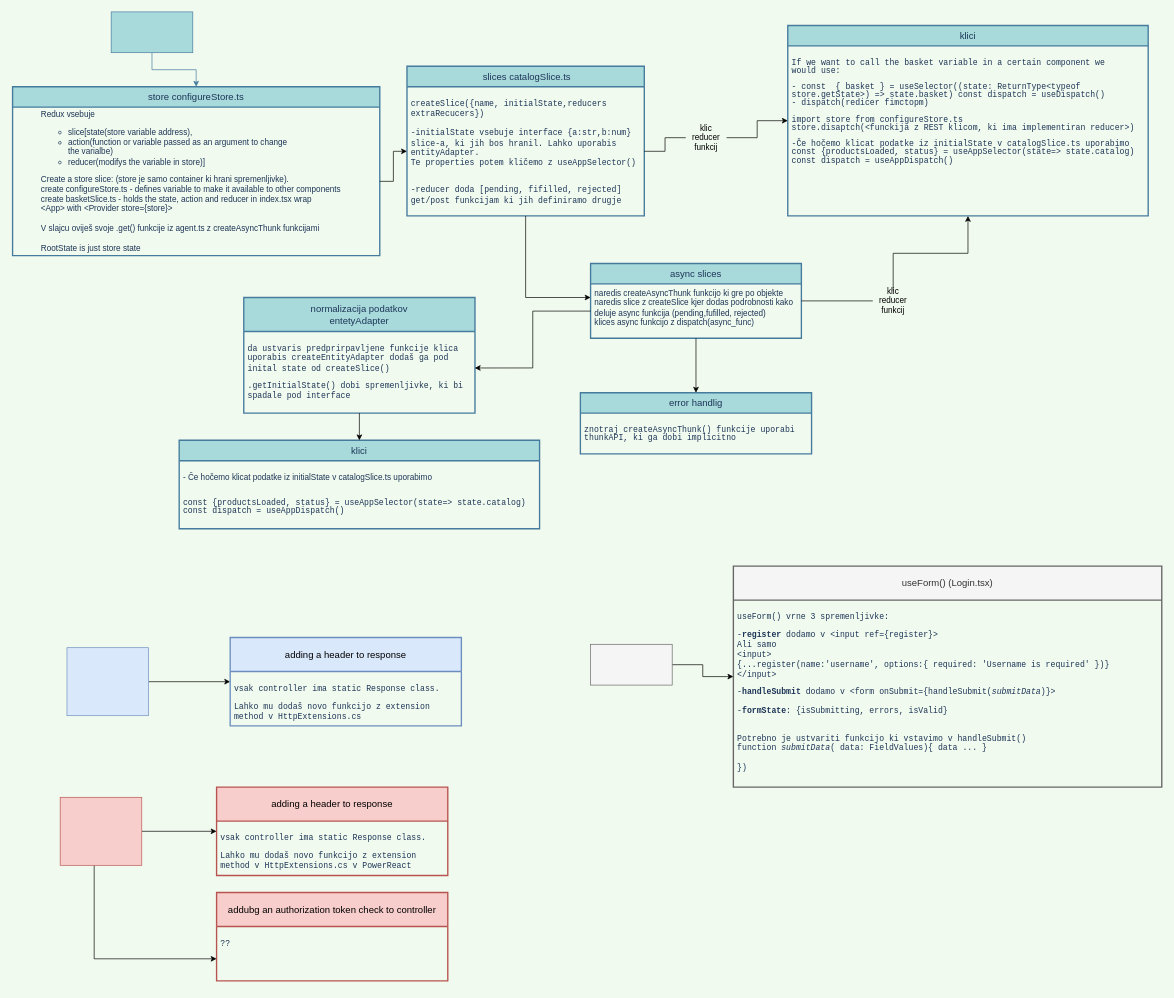
Image size: 1174x998. Some labels were removed from this diagram. The centre of each missing label's shape, as x and y in pixels:
"C# Custom Atributes" goes at [101,831].
"Form Hooks" goes at [631,664].
"Redux" goes at [152,32].
"Sorting, Filtering Paging" goes at [107,681].
